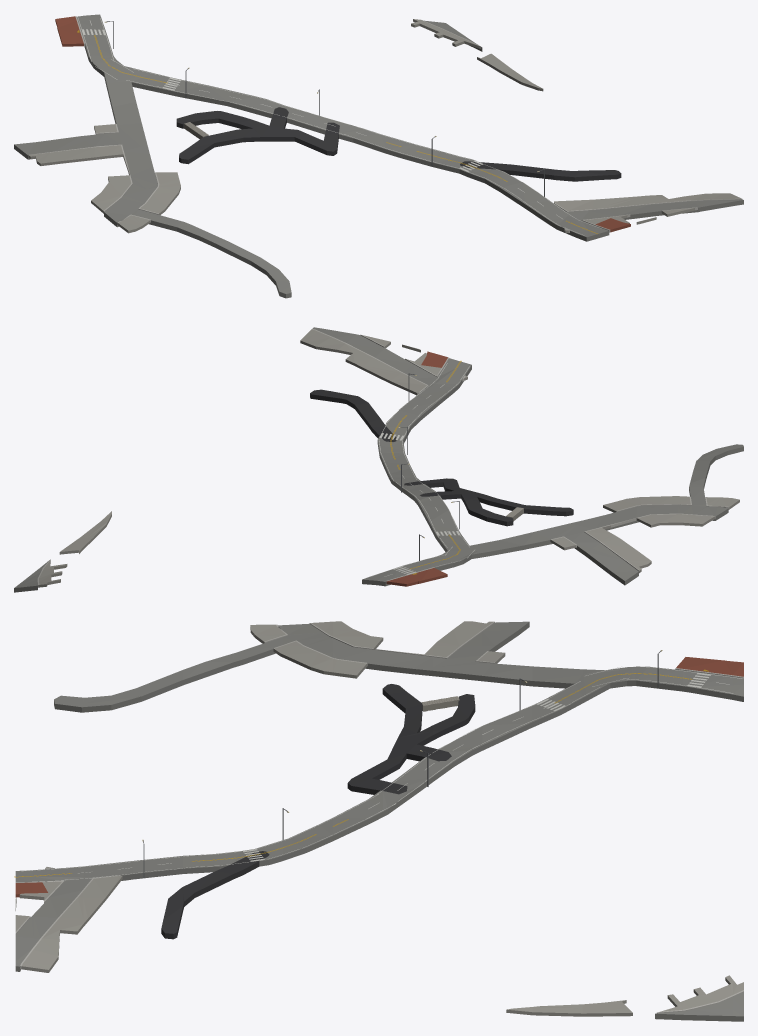
3 views of the same model, one above another, from view 1: azimuth 30°, elevation 25°; view 2: azimuth 150°, elevation 25°; view 3: azimuth 270°, elevation 25° (orthographic). The views are drawn at different scales.
Bounding box in the file's own units: 147 × 32.85 × 146.
